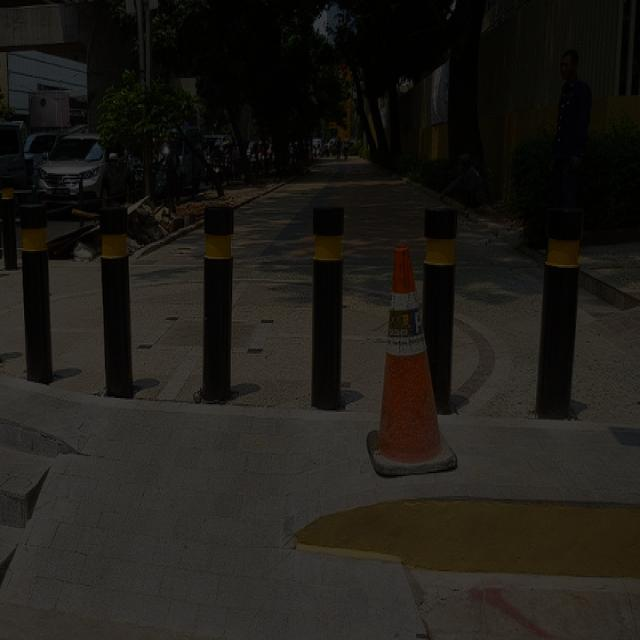obstacle: (90, 194, 140, 411), (537, 196, 586, 416), (195, 194, 238, 420), (11, 188, 58, 388), (305, 193, 348, 411), (416, 198, 462, 368)
